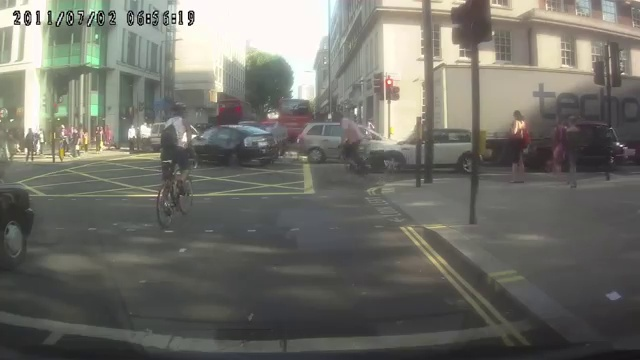cyclist_back: (158, 101, 201, 237)
cyclist_side: (322, 110, 384, 185)
